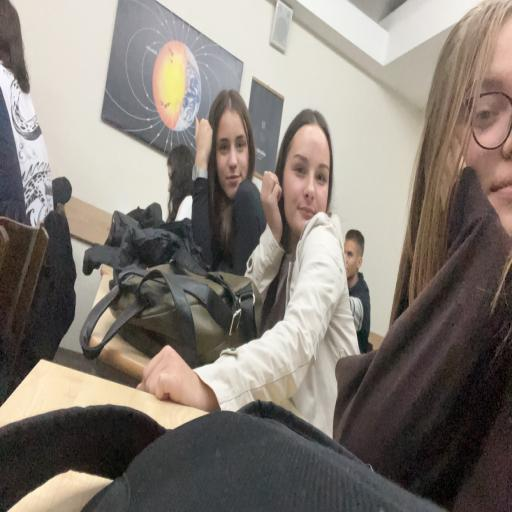marija: (279, 121, 333, 235)
masa: (214, 107, 254, 200)
